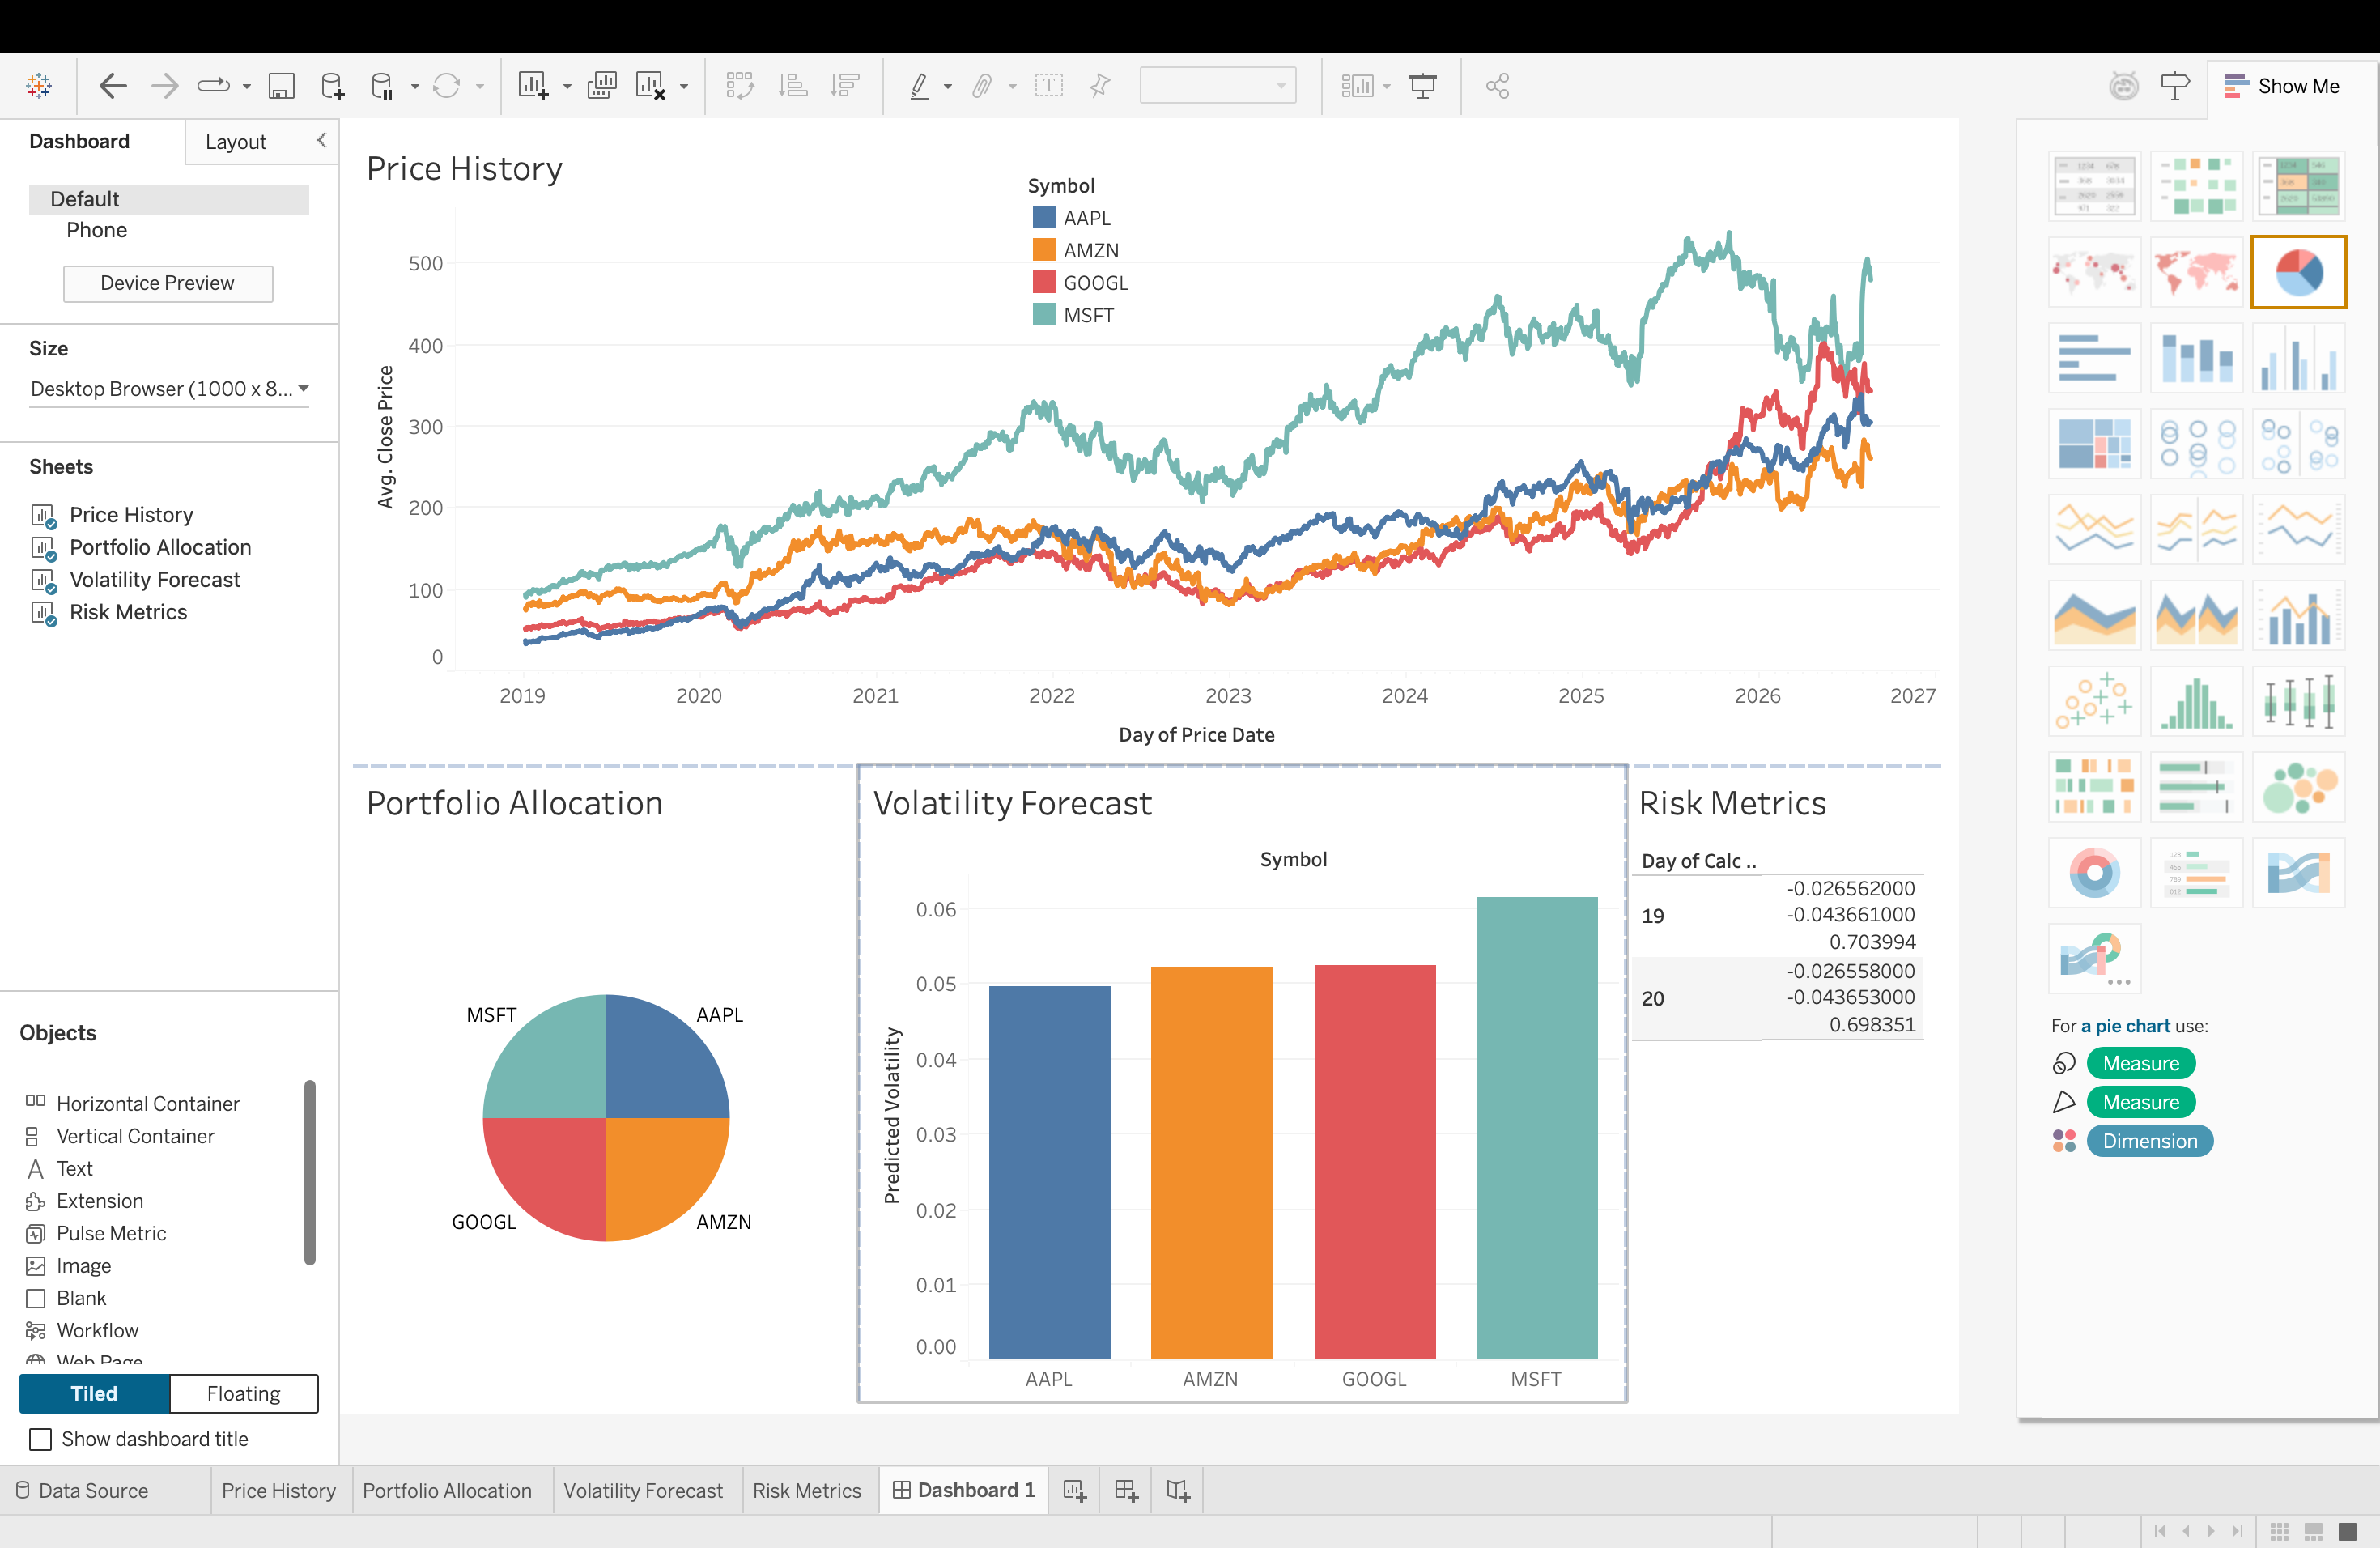

Layout of this report page (visuals, bound fields, positions):
{"tool":"tableau","page":{"name":"Dashboard 1","canvas":[1000,800],"ordinal":0},"visuals":[{"type":"worksheet","title":"Price History","mark":"Automatic","rows":["close_price"],"cols":["price_date"],"box":[8,8,984,392]},{"type":"legend","title":"Price History","param":"[federated.09zsb5w0i3i38z19jqcp6182u4ex].[none:symbol:nk]","box":[425,33,140,98]},{"type":"worksheet","title":"Portfolio Allocation","mark":"Pie","box":[8,400,313,392]},{"type":"worksheet","title":"Volatility Forecast","mark":"Automatic","rows":["predicted_volatility"],"cols":["symbol"],"box":[321,400,473,392]},{"type":"worksheet","title":"Risk Metrics","mark":"Automatic","rows":["calc_date"],"box":[794,400,198,392]}]}

Visuals, with their boxes on the page's 1000x800 design canvas (x1, y1, x2, y2). These are canvas units, not pixel positions in the 2380x1548 screenshot, which may show the page scaled, cropped or inside an application window:
"Price History" worksheet: pyautogui.locateOnScreen(8, 8, 992, 400)
"Price History" legend: pyautogui.locateOnScreen(425, 33, 565, 131)
"Portfolio Allocation" worksheet (Pie marks): pyautogui.locateOnScreen(8, 400, 321, 792)
"Volatility Forecast" worksheet: pyautogui.locateOnScreen(321, 400, 794, 792)
"Risk Metrics" worksheet: pyautogui.locateOnScreen(794, 400, 992, 792)
